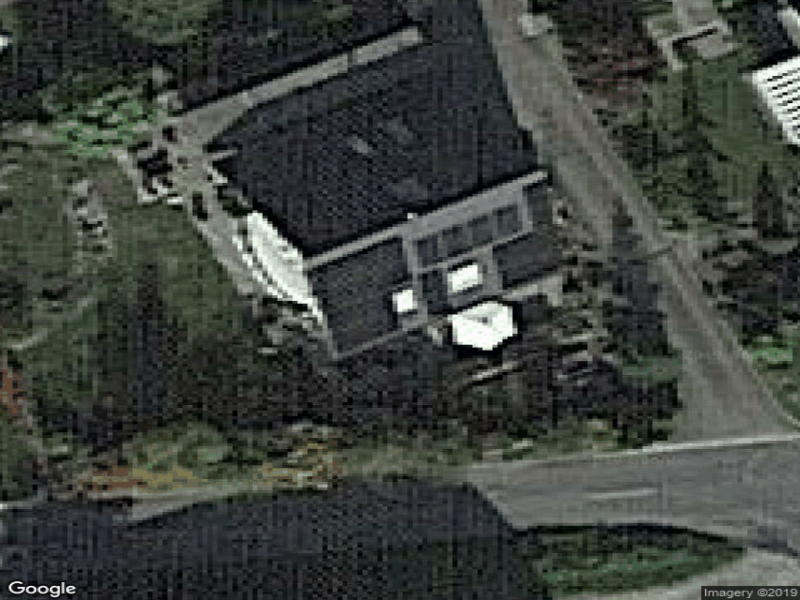pv: (308, 237, 411, 354), (496, 179, 561, 292)
